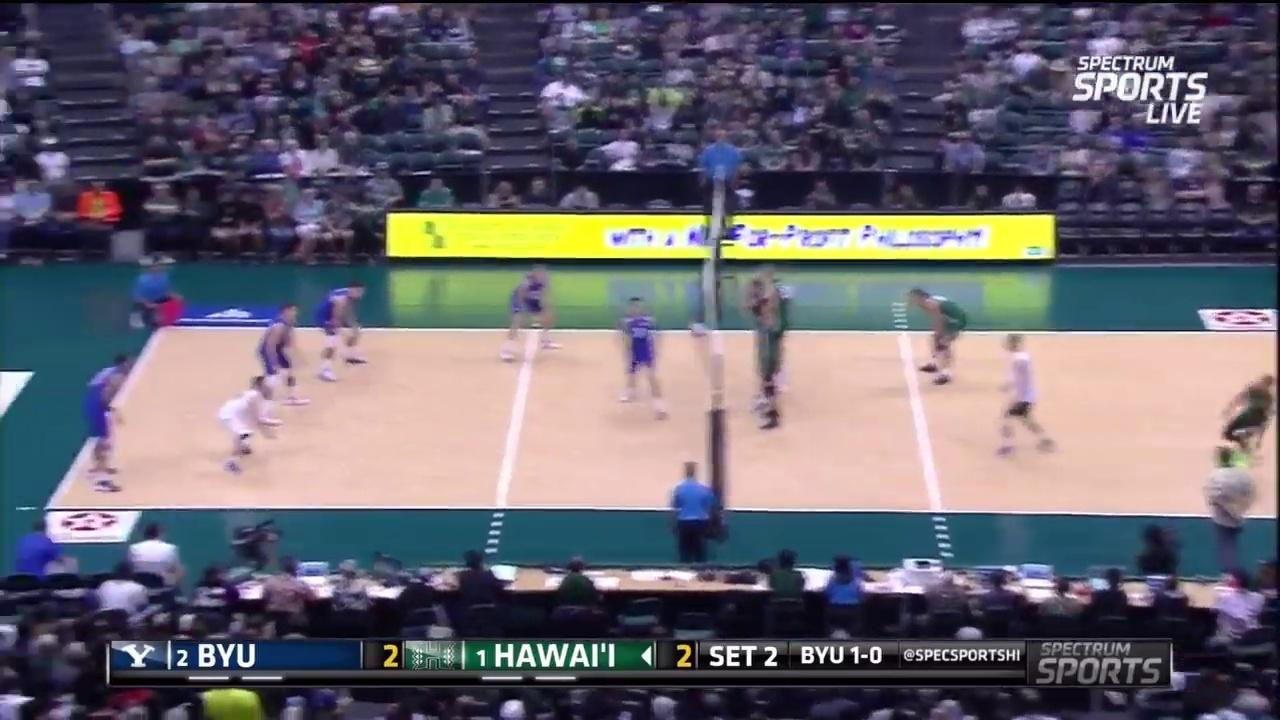player: (989, 322, 1071, 462), (76, 345, 148, 496), (897, 279, 970, 392), (1204, 362, 1280, 469), (211, 374, 279, 478), (618, 298, 667, 415), (736, 275, 778, 404), (752, 299, 791, 434), (500, 267, 555, 362), (254, 308, 303, 407), (760, 264, 795, 391), (322, 283, 366, 369)
refree: (663, 452, 723, 569), (697, 123, 745, 239), (124, 250, 186, 331)
